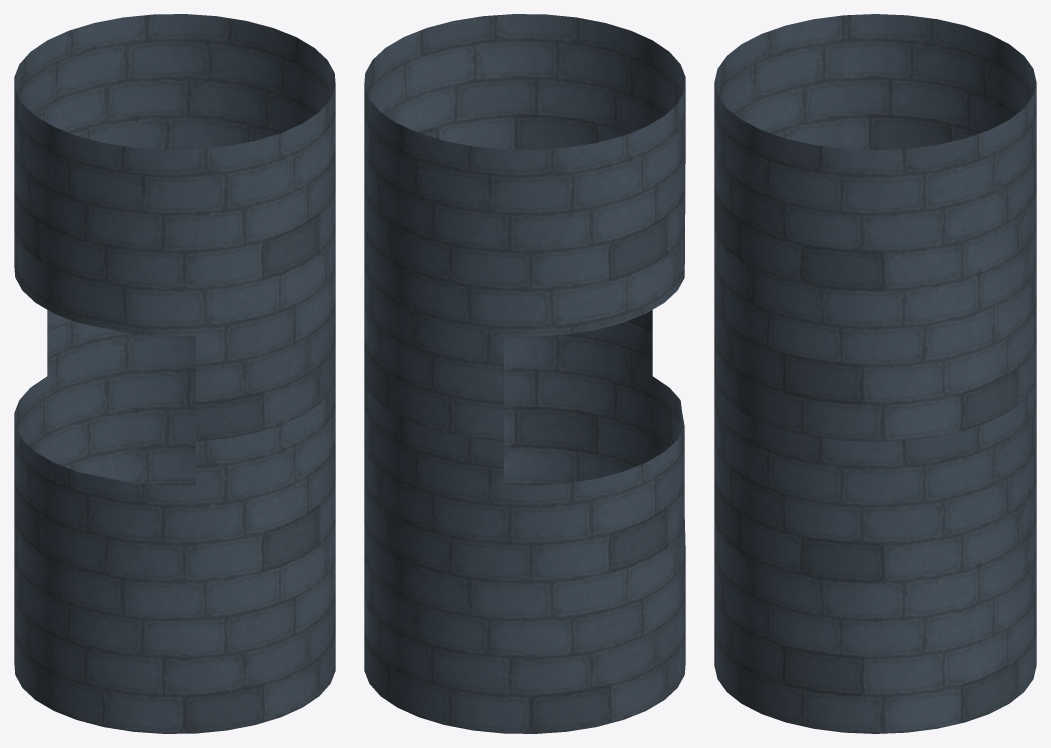
Rendered from Cut entrance.fbx.
3 views of the same model, side by side, from view 1: azimuth 30°, elevation 25°; view 2: azimuth 150°, elevation 25°; view 3: azimuth 270°, elevation 25° (orthographic).
Parts seen in each view (by area): view 1: Tower_Main__8_1, Tower_Main__8_; view 2: Tower_Main__8_1, Tower_Main__8_; view 3: Tower_Main__8_, Tower_Main__8_1.
Boxes of the visible parts, x1,y1,x2,y2 form: Tower_Main__8_1: [14, 321, 335, 733]; Tower_Main__8_: [14, 14, 335, 441]; Tower_Main__8_1: [364, 321, 685, 733]; Tower_Main__8_: [364, 14, 685, 441]; Tower_Main__8_: [714, 14, 1036, 441]; Tower_Main__8_1: [714, 374, 1036, 733].
Bounding box in the file's own units: 10 × 20 × 10.
Materials: 1 (1 with a texture image).
